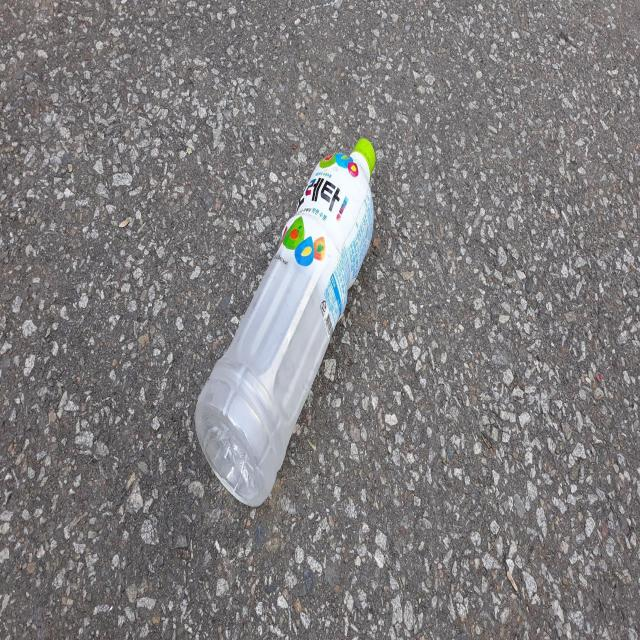plastic: (194, 137, 376, 506)
